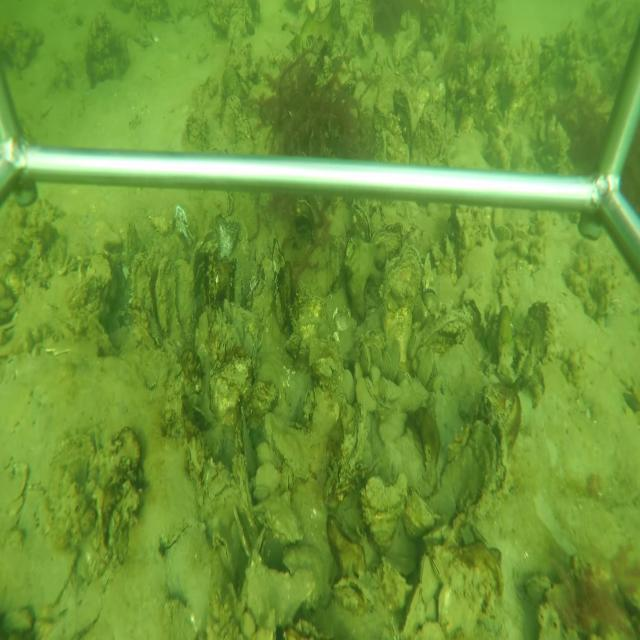Oyster-Closed: (325, 403, 367, 500), (359, 472, 406, 549), (262, 413, 313, 481), (416, 309, 469, 353), (170, 256, 194, 343), (332, 573, 372, 612), (399, 582, 422, 637), (419, 553, 439, 608), (360, 342, 372, 373), (370, 342, 384, 367), (383, 348, 393, 380), (399, 369, 412, 382)
Oyster-Indeterminate: (239, 557, 319, 629), (378, 243, 421, 357), (221, 94, 253, 141), (372, 218, 404, 254), (354, 380, 376, 411)
Oyster-Open: (466, 403, 511, 496), (145, 263, 167, 342), (352, 200, 372, 236)
